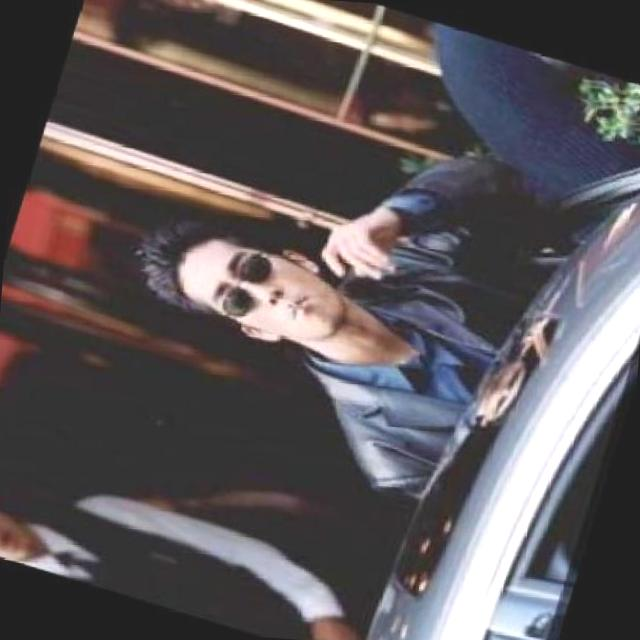cigarette: (283, 298, 304, 310)
